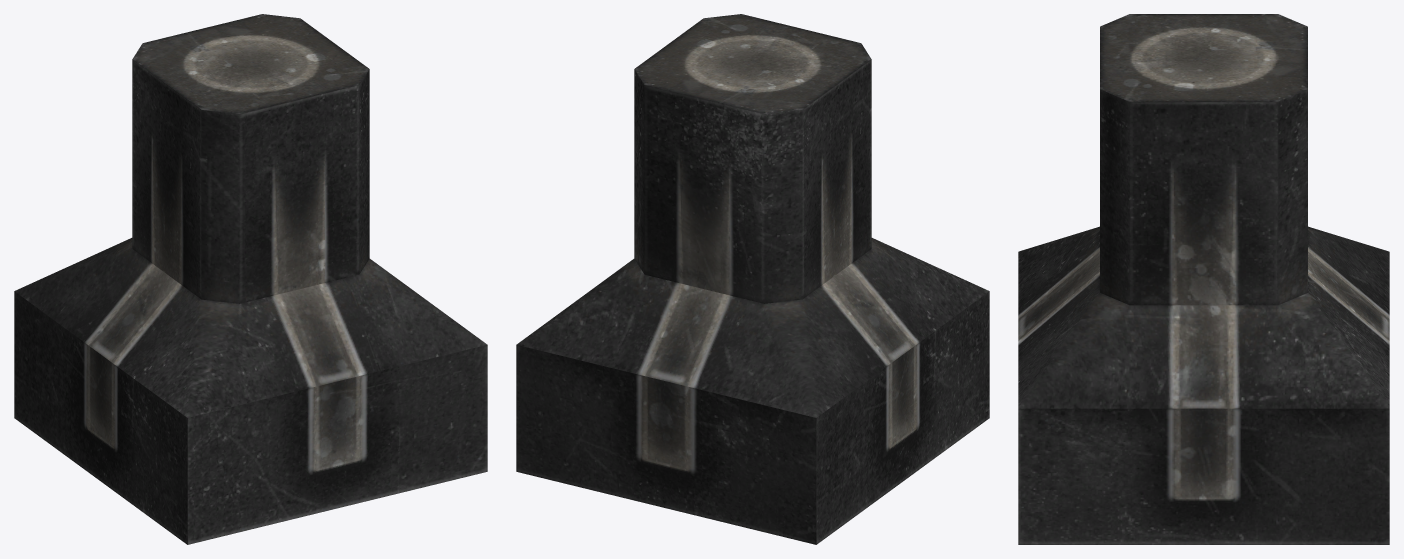
File: SM_SignalLightBase.FBX
3 renders of one model, left to right at view 1: azimuth 30°, elevation 25°; view 2: azimuth 150°, elevation 25°; view 3: azimuth 270°, elevation 25°, orthographic. The views are drawn at different scales.
Visible parts, largest first — view 1: SM_SignalLightBase; view 2: SM_SignalLightBase; view 3: SM_SignalLightBase.
Part boxes in pixels (<box>): SM_SignalLightBase: <box>14,14,487,544</box>; SM_SignalLightBase: <box>516,14,989,544</box>; SM_SignalLightBase: <box>1018,14,1389,544</box>.
Size of the model in its own units: 64.26 by 64.26 by 77.93.
